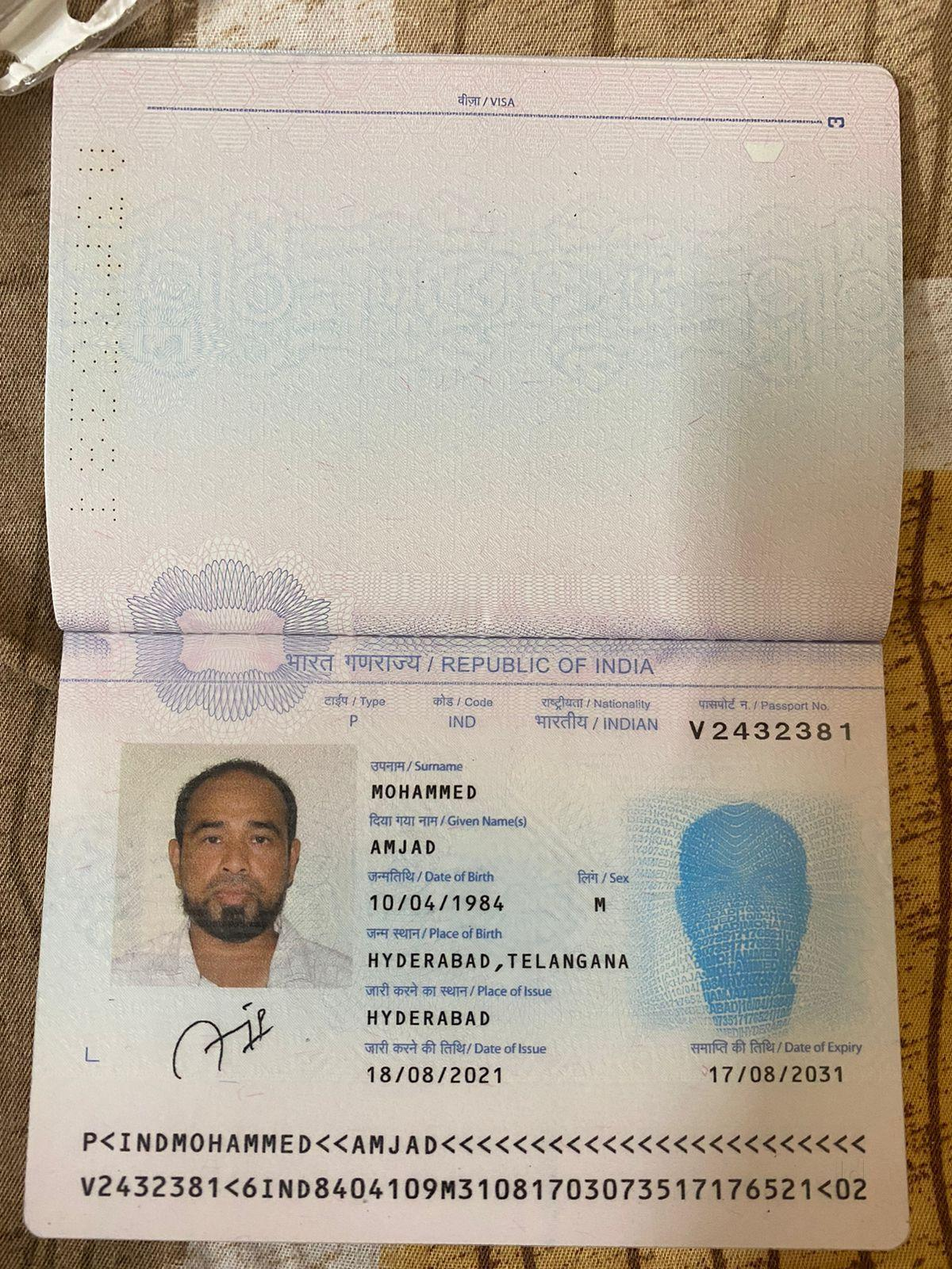DOB: (364, 884, 513, 920)
Surname: (368, 777, 487, 807)
country_code: (438, 710, 482, 733)
date_of_expiry: (695, 1056, 856, 1091)
date_of_issue: (361, 1056, 528, 1095)
details: (56, 1114, 878, 1217)
name: (365, 834, 458, 865)
nationality: (531, 710, 664, 740)
passport_no: (680, 715, 862, 749)
photo: (126, 749, 349, 986)
place_of_birth: (360, 940, 632, 983)
place_of_issue: (359, 1001, 507, 1033)
sex: (584, 886, 624, 921)
sign: (154, 997, 296, 1085)
type: (340, 708, 369, 732)
